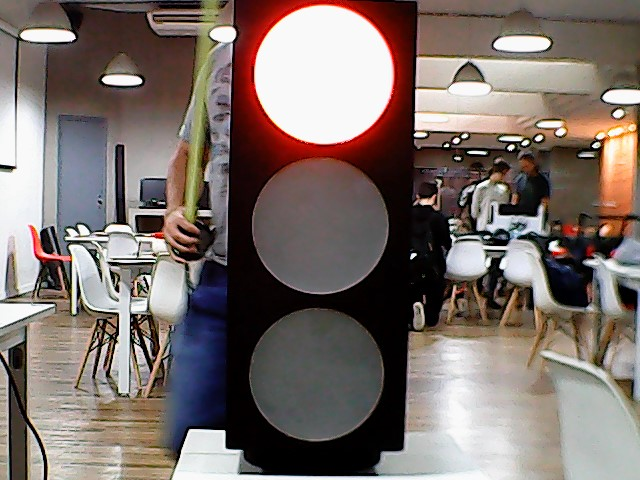vermelho: (224, 2, 405, 452)
